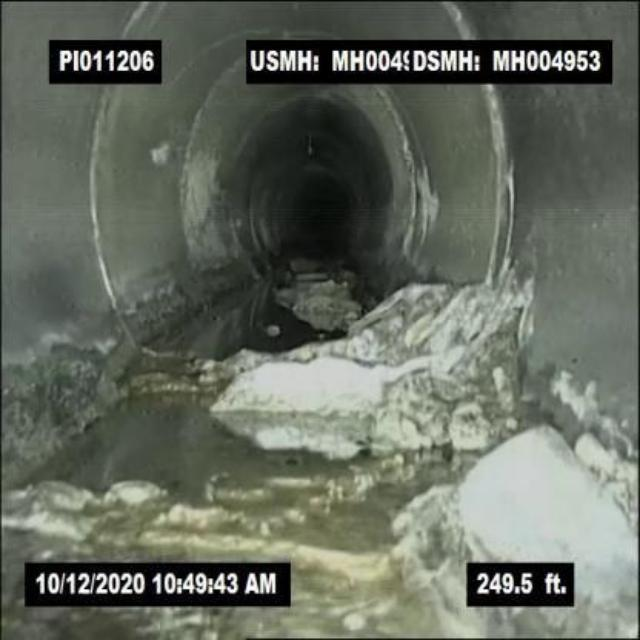Obstacle: (212, 275, 522, 426), (451, 425, 637, 611)
